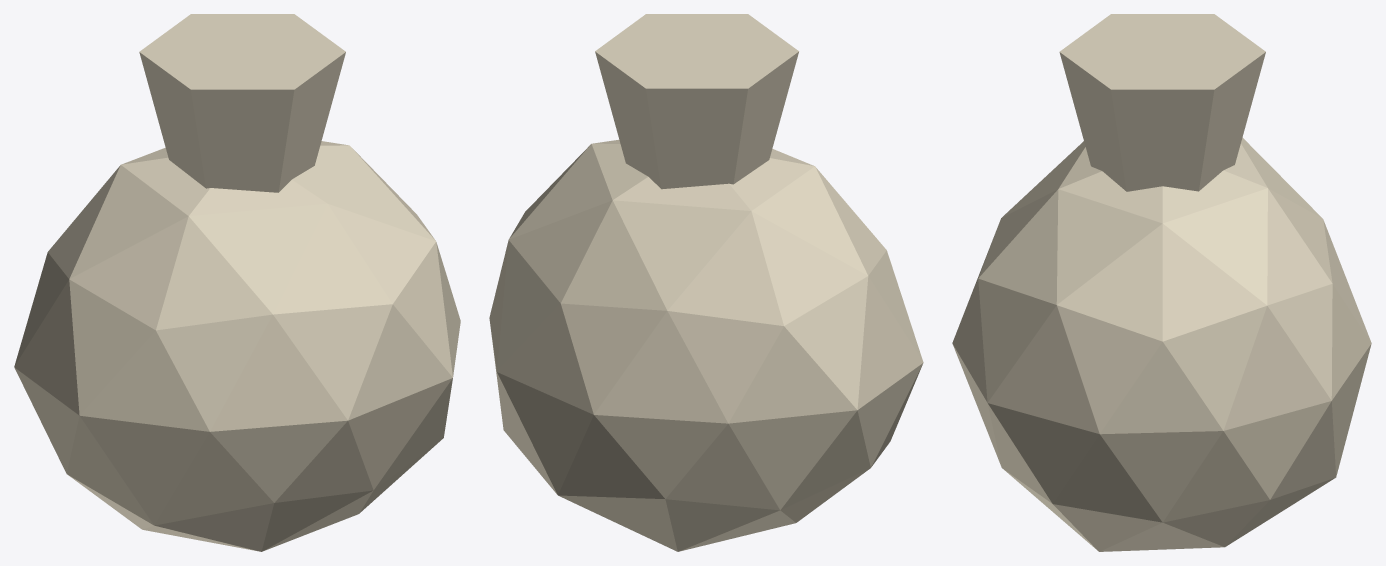
File: sack.glb
3 renders of one model, left to right at view 1: azimuth 30°, elevation 25°; view 2: azimuth 150°, elevation 25°; view 3: azimuth 270°, elevation 25°, orthographic.
Visible parts, largest first — view 1: sack; view 2: sack; view 3: sack.
Boxes of the visible parts, x1,y1,x2,y2 form: sack: [14, 14, 460, 551]; sack: [489, 14, 923, 551]; sack: [952, 14, 1371, 551].
Bounding box in the file's own units: 0.3846 × 0.45 × 0.3652.
